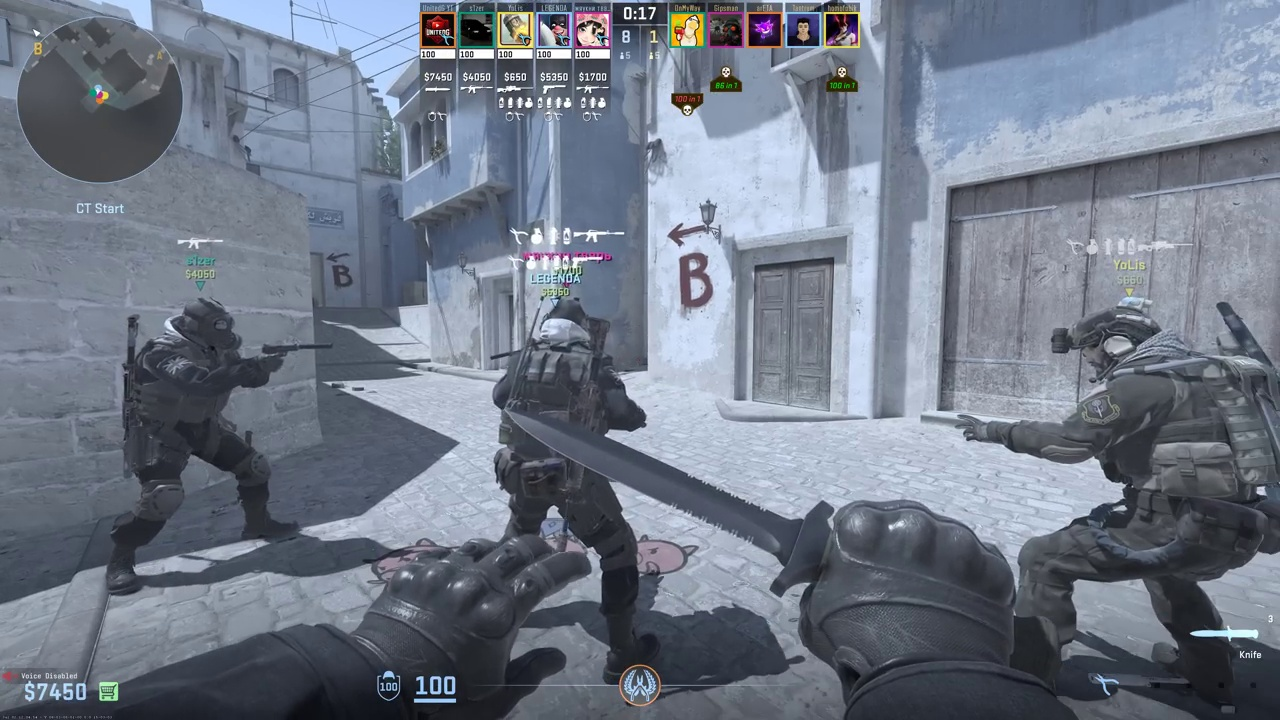CT: (1031, 299, 1274, 697), (109, 296, 288, 595), (501, 296, 645, 648)
